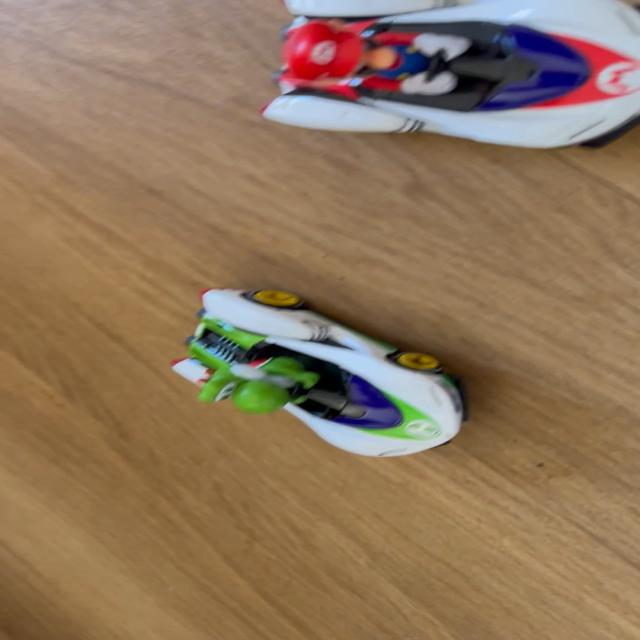mario: (243, 2, 637, 162)
yoshi: (140, 289, 493, 475)
